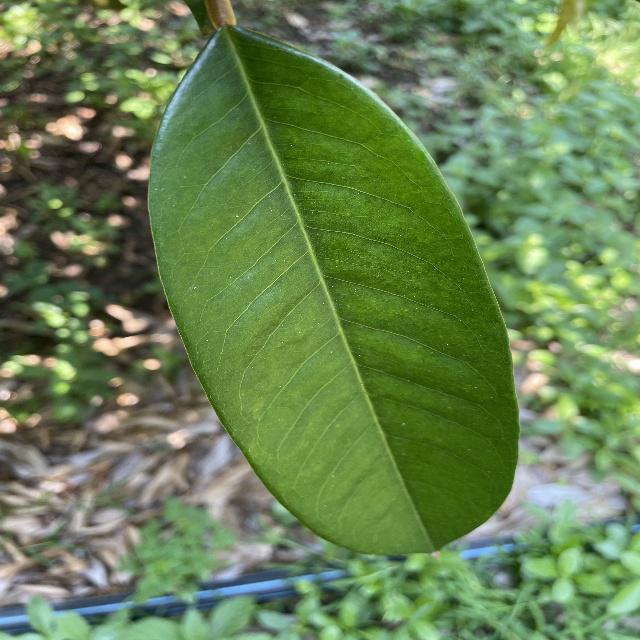No Disease: (135, 17, 533, 569)
